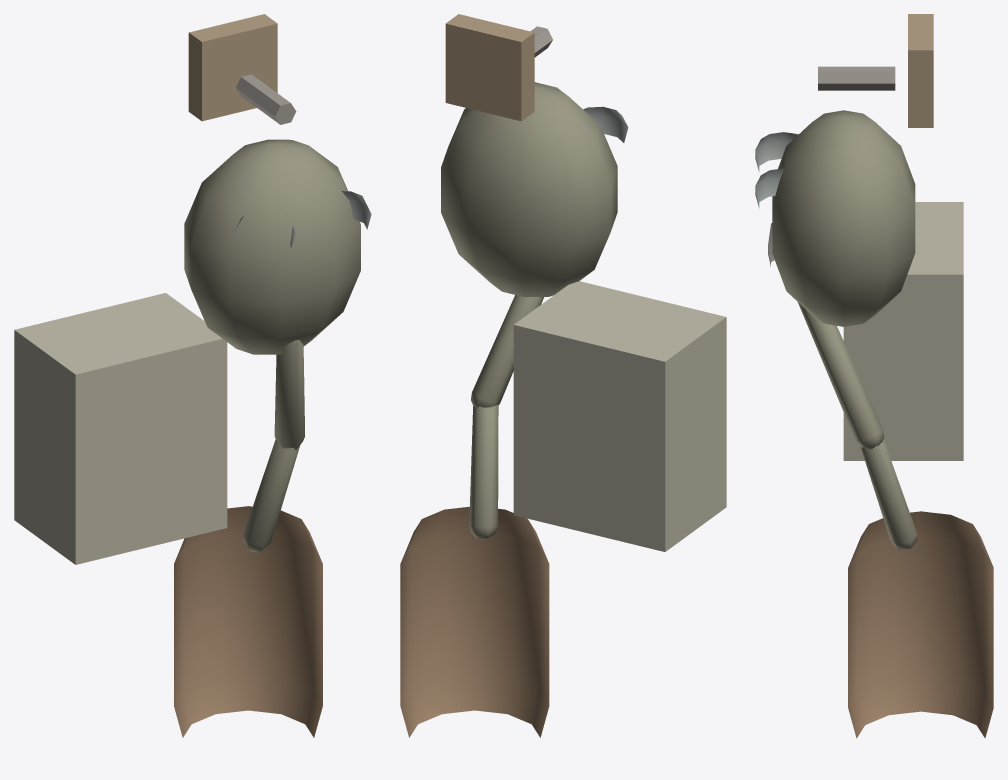
File: trench-line-1917-gas-mask-hook-75332a4a__24102.glb
3 renders of one model, left to right at view 1: azimuth 30°, elevation 25°; view 2: azimuth 150°, elevation 25°; view 3: azimuth 270°, elevation 25°, orthographic. The views are drawn at different scales.
Visible parts, largest first — view 1: gas-mask-hook; view 2: gas-mask-hook; view 3: gas-mask-hook.
Part boxes in pixels (<box>): gas-mask-hook: <box>14,14,371,737</box>; gas-mask-hook: <box>400,14,726,737</box>; gas-mask-hook: <box>755,14,993,738</box>.
Size of the model in its own units: 0.3672 by 0.9 by 0.2783.
